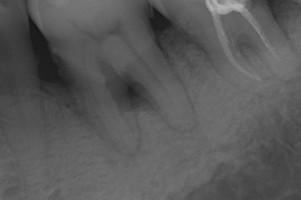Endo-Periodontal Lesion: (99, 62, 159, 113)
